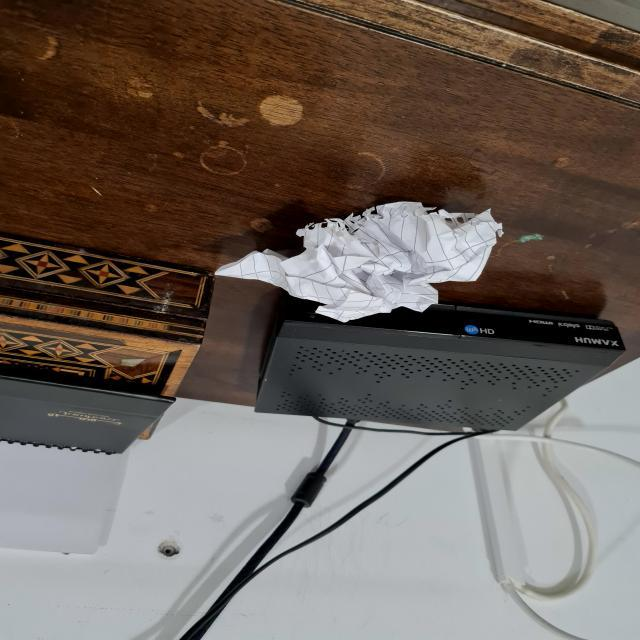Paper: (221, 202, 504, 314)
